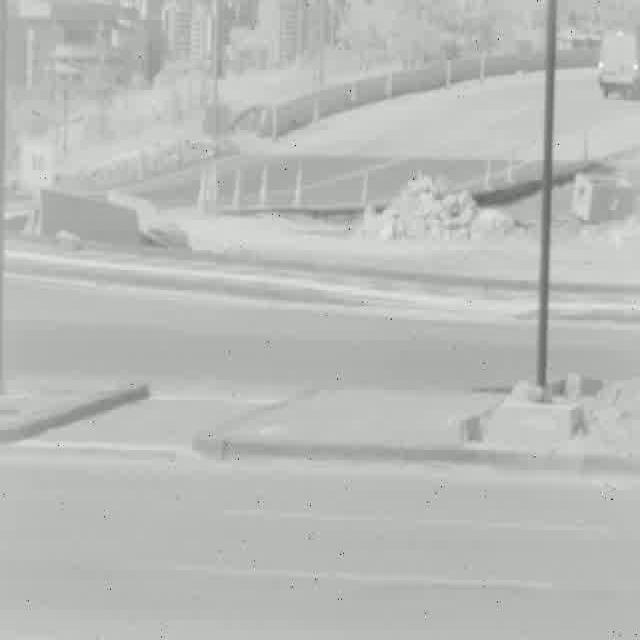Car: (598, 31, 640, 98)
